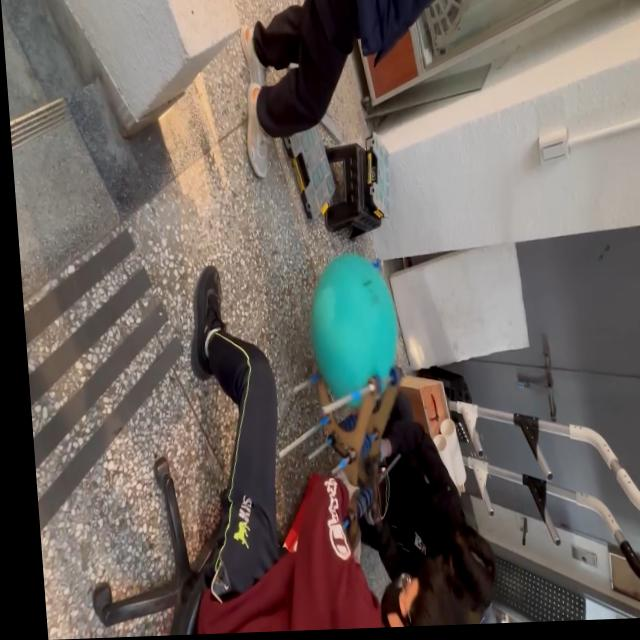ALGAE: (303, 249, 404, 411)
